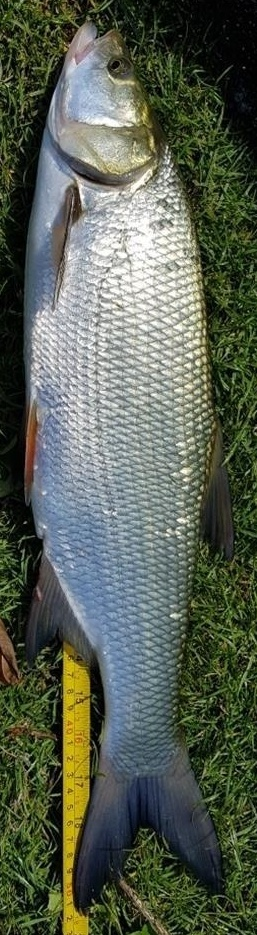Aspius aspius: (20, 20, 237, 915)
